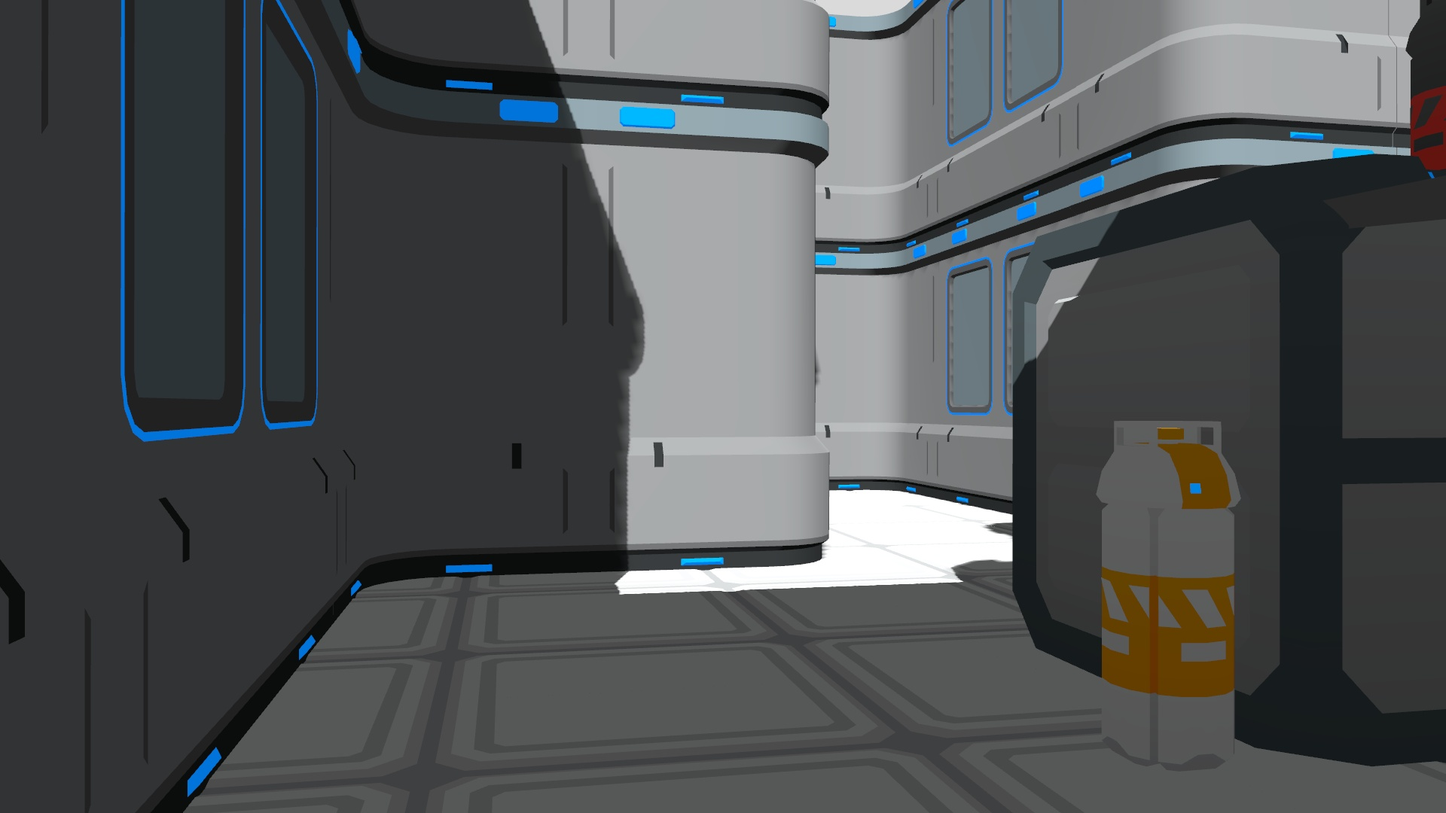yellow_barrel: (1090, 416, 1248, 780)
